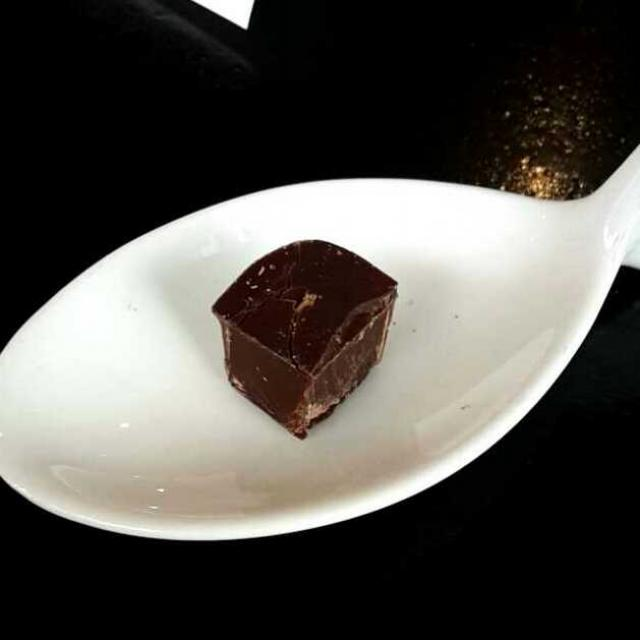dark-chocolate: (215, 243, 394, 436)
